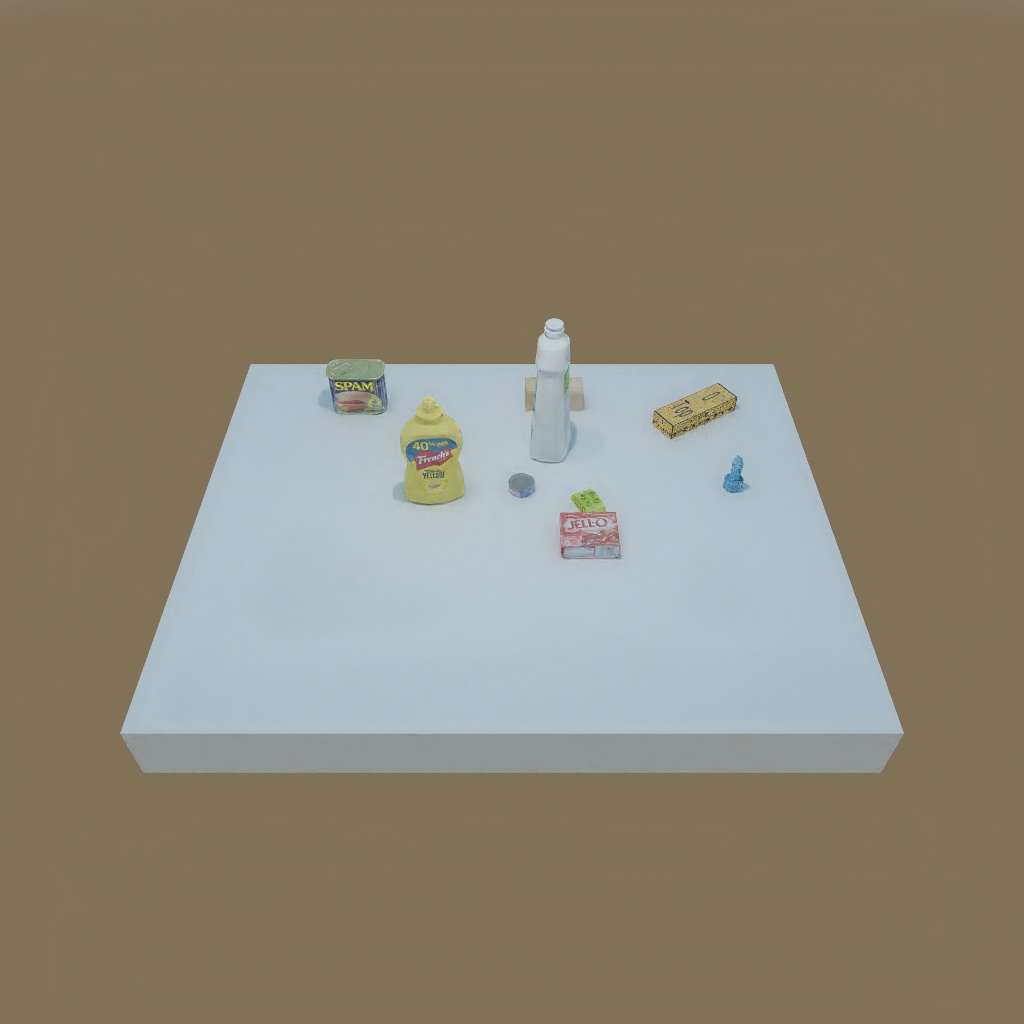gelatin_box: (555, 508, 623, 562)
jenga: (652, 381, 740, 441)
mustard_bottle: (401, 398, 469, 505)
potted_meat_can: (326, 357, 391, 416)
wood_block: (522, 371, 590, 411)
